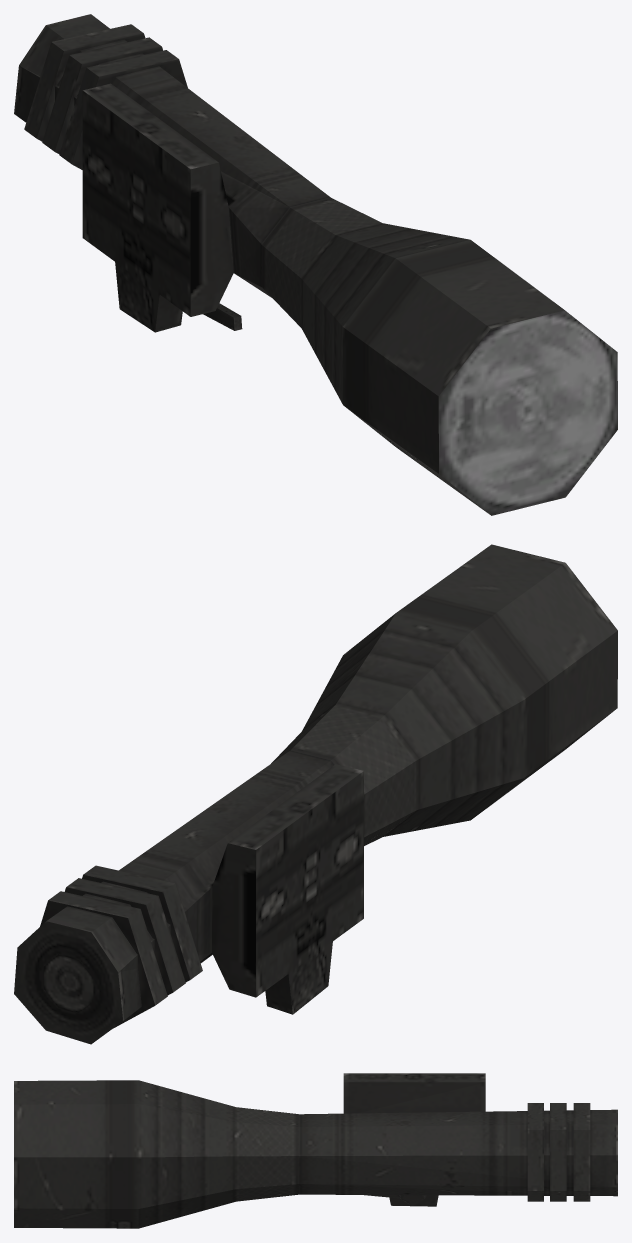
Rendered from FlashLight.fbx.
3 renders of one model, top to bottom at view 1: azimuth 30°, elevation 25°; view 2: azimuth 150°, elevation 25°; view 3: azimuth 270°, elevation 25°, orthographic. The views are drawn at different scales.
Parts seen in each view (by area): view 1: FlashLight; view 2: FlashLight; view 3: FlashLight.
Boxes of the visible parts, x1,y1,x2,y2 form: FlashLight: (14,14,617,515); FlashLight: (14,544,617,1044); FlashLight: (14,1073,617,1228).
Bounding box in the file's own units: 0.9946 × 1.08 × 4.37.
